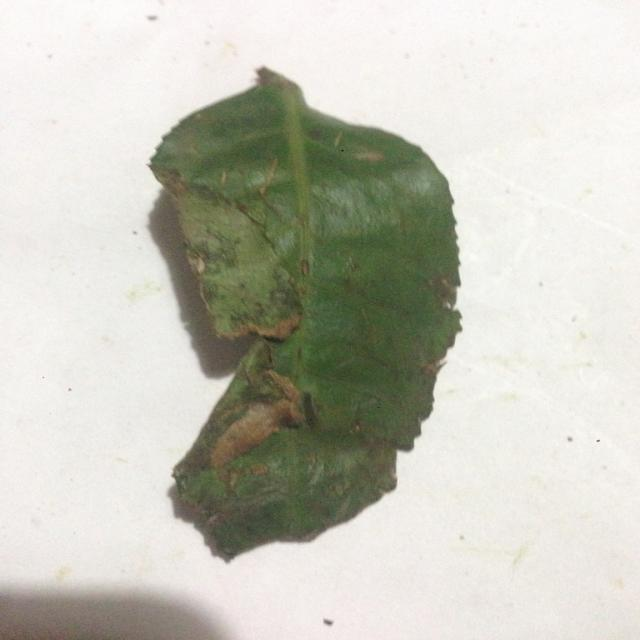Red Leaf Spot: (120, 57, 477, 562)
